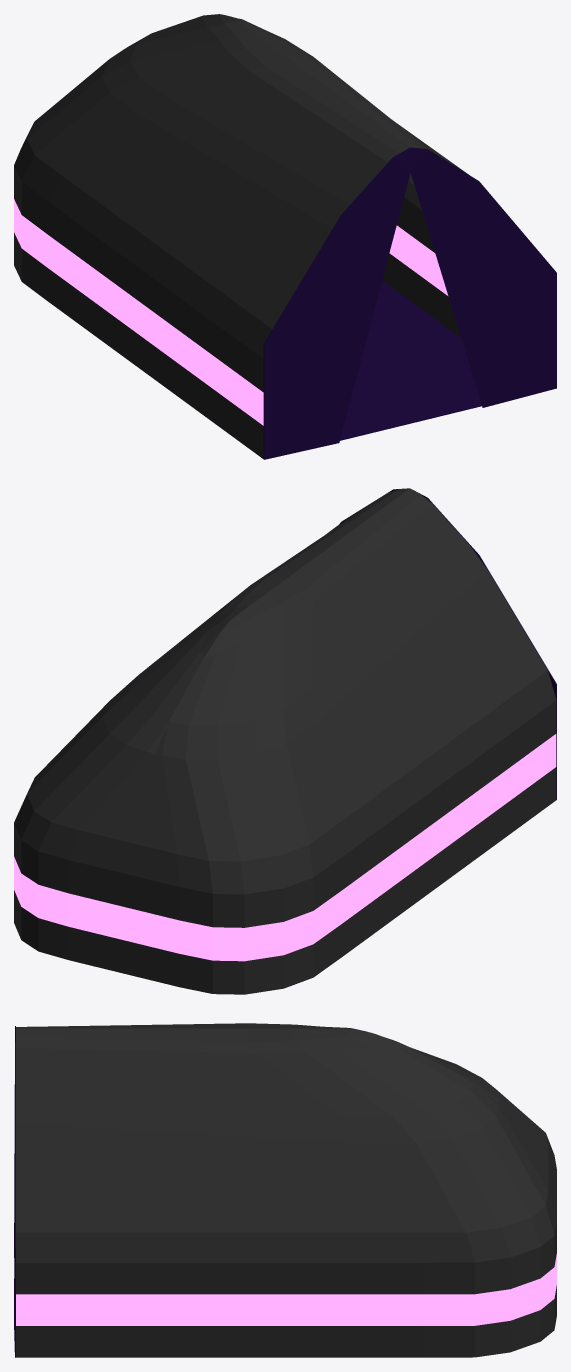
The model's file is Tent.fbx.
The picture shows the model from 3 angles, top to bottom: view 1: azimuth 30°, elevation 25°; view 2: azimuth 150°, elevation 25°; view 3: azimuth 270°, elevation 25°; orthographic projection. The views are drawn at different scales.
Parts seen in each view (by area): view 1: Tent, TentCover, Floor; view 2: Tent; view 3: Tent, TentCover.
Boxes of the visible parts, left/top/right/bottom form: Tent: left=14, top=14, right=468, bottom=458; TentCover: left=263, top=147, right=556, bottom=459; Floor: left=340, top=280, right=481, bottom=440; Tent: left=14, top=488, right=556, bottom=994; Tent: left=16, top=1023, right=556, bottom=1357; TentCover: left=14, top=1026, right=15, bottom=1357.
Size of the model in its own units: 3.24 by 2.93 by 5.49.
